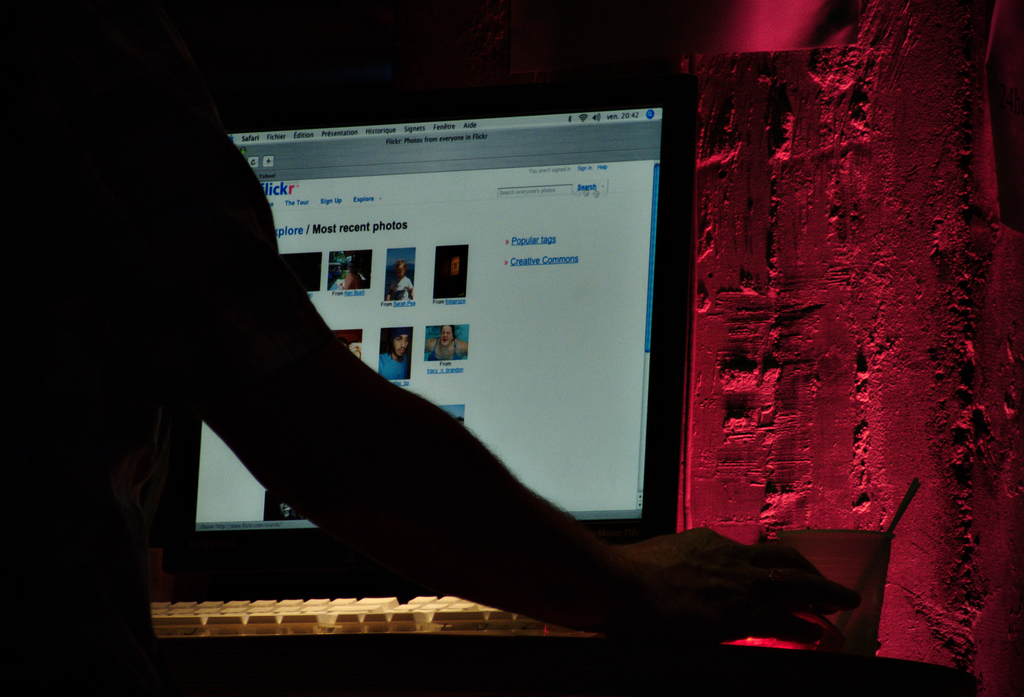Human_hand: (612, 522, 860, 642)
